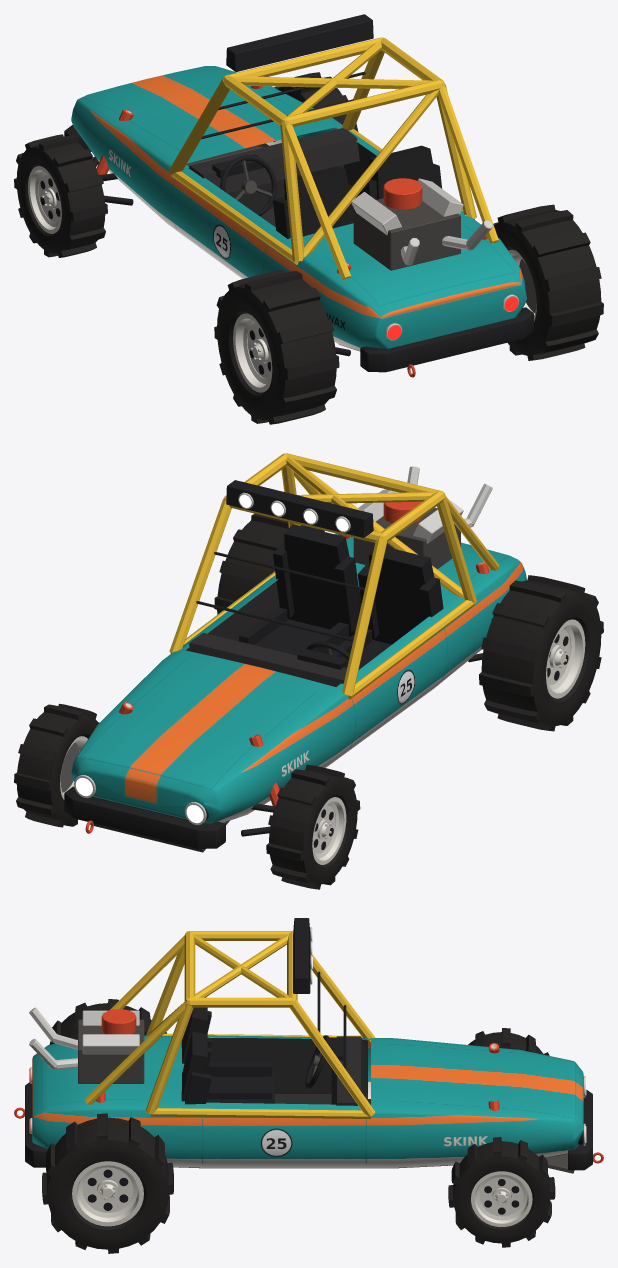
File: CAR-025_Export.fbx
3 renders of one model, top to bottom at view 1: azimuth 30°, elevation 25°; view 2: azimuth 150°, elevation 25°; view 3: azimuth 270°, elevation 25°, orthographic. The views are drawn at different scales.
Parts seen in each view (by area): view 1: CAR-025_Body, CAR-025_Cage, CAR-025_Accessories, CAR-025_Wheel_RL_Tire, CAR-025_Interior, CAR-025_Wheel_RR_Tire, CAR-025_Wheel_FL_Tire, CAR-025_Bumper_Rear, CAR-025_Wheel_RL_Rim, CAR-025_Wheel_FL_Rim, CAR-025_SteeringWheel, CAR-025_Wheel_FR_Tire (+1 smaller); view 2: CAR-025_Body, CAR-025_Interior, CAR-025_Cage, CAR-025_Wheel_RL_Tire, CAR-025_Accessories, CAR-025_Wheel_FL_Tire, CAR-025_Wheel_FR_Tire, CAR-025_Bumper_Front, CAR-025_Wheel_RR_Tire, CAR-025_Wheel_RL_Rim, CAR-025_Wheel_FL_Rim, CAR-025_Lights (+1 smaller); view 3: CAR-025_Body, CAR-025_Cage, CAR-025_Interior, CAR-025_Wheel_RR_Tire, CAR-025_Accessories, CAR-025_Wheel_FR_Tire, CAR-025_Wheel_RR_Rim, CAR-025_Wheel_FR_Rim, CAR-025_Wheel_RL_Tire, CAR-025_Bumper_Front, CAR-025_Wheel_FL_Tire, CAR-025_Bumper_Rear (+1 smaller).
Part boxes in pixels (bbox=[...]): CAR-025_Body: bbox=[71, 66, 527, 351]; CAR-025_Cage: bbox=[169, 37, 498, 279]; CAR-025_Accessories: bbox=[92, 14, 492, 356]; CAR-025_Wheel_RL_Tire: bbox=[214, 270, 339, 424]; CAR-025_Interior: bbox=[188, 128, 442, 238]; CAR-025_Wheel_RR_Tire: bbox=[493, 204, 603, 360]; CAR-025_Wheel_FL_Tire: bbox=[14, 134, 107, 257]; CAR-025_Bumper_Rear: bbox=[360, 307, 533, 372]; CAR-025_Wheel_RL_Rim: bbox=[233, 313, 272, 392]; CAR-025_Wheel_FL_Rim: bbox=[28, 166, 61, 233]; CAR-025_SteeringWheel: bbox=[220, 155, 277, 215]; CAR-025_Wheel_FR_Tire: bbox=[274, 72, 358, 131]; CAR-025_Body: bbox=[71, 533, 526, 823]; CAR-025_Interior: bbox=[183, 524, 443, 686]; CAR-025_Cage: bbox=[169, 453, 498, 699]; CAR-025_Wheel_RL_Tire: bbox=[479, 575, 603, 731]; CAR-025_Accessories: bbox=[90, 466, 492, 852]; CAR-025_Wheel_FL_Tire: bbox=[266, 764, 360, 889]; CAR-025_Wheel_FR_Tire: bbox=[14, 703, 99, 827]; CAR-025_Bumper_Front: bbox=[64, 786, 225, 848]; CAR-025_Wheel_RR_Tire: bbox=[214, 513, 324, 614]; CAR-025_Wheel_RL_Rim: bbox=[546, 619, 585, 698]; CAR-025_Wheel_FL_Rim: bbox=[312, 797, 346, 864]; CAR-025_Lights: bbox=[74, 775, 208, 825]; CAR-025_Body: bbox=[32, 1035, 583, 1168]; CAR-025_Cage: bbox=[84, 931, 375, 1118]; CAR-025_Interior: bbox=[181, 997, 367, 1105]; CAR-025_Wheel_RR_Tire: bbox=[42, 1113, 173, 1253]; CAR-025_Accessories: bbox=[29, 918, 574, 1173]; CAR-025_Wheel_FR_Tire: bbox=[448, 1137, 555, 1247]; CAR-025_Wheel_RR_Rim: bbox=[72, 1161, 143, 1226]; CAR-025_Wheel_FR_Rim: bbox=[471, 1171, 532, 1226]; CAR-025_Wheel_RL_Tire: bbox=[49, 999, 166, 1044]; CAR-025_Bumper_Front: bbox=[568, 1089, 592, 1170]; CAR-025_Wheel_FL_Tire: bbox=[468, 1028, 549, 1055]; CAR-025_Bumper_Rear: bbox=[25, 1082, 47, 1167].
Bounding box in the file's own units: 2.08 × 1.67 × 3.75.
Materials: 14 (1 with a texture image).
